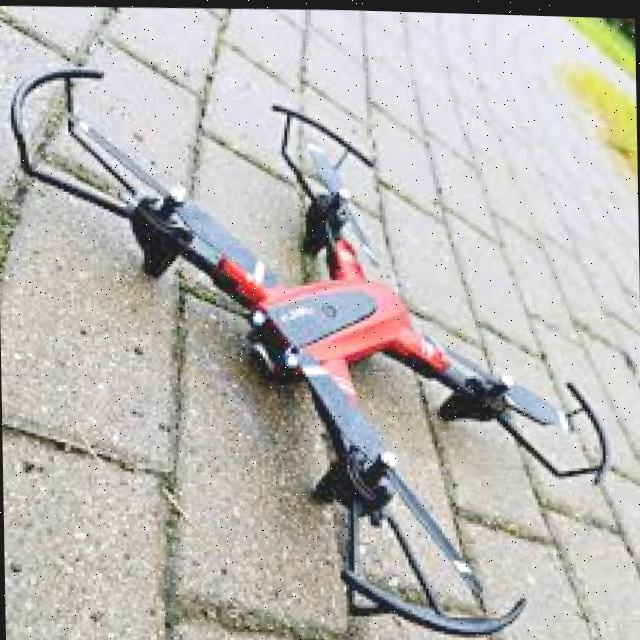drone: (0, 32, 608, 640)
